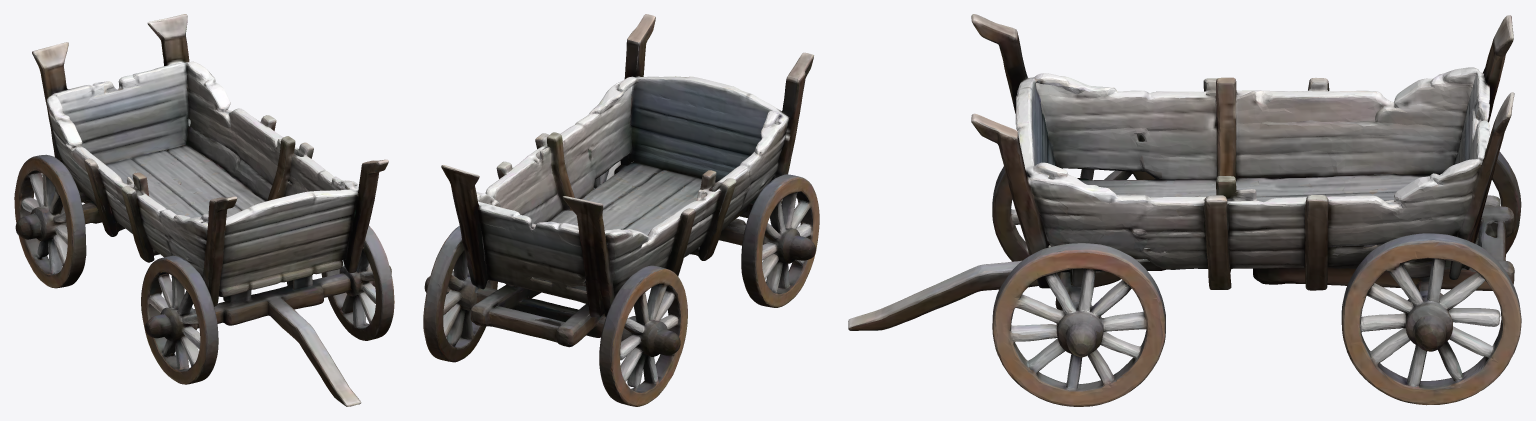
Rendered from combat_broken_cart_01.glb.
The picture shows the model from 3 angles, left to right: view 1: azimuth 30°, elevation 25°; view 2: azimuth 150°, elevation 25°; view 3: azimuth 270°, elevation 25°; orthographic projection. The views are drawn at different scales.
Visible parts, largest first — view 1: geometry_0; view 2: geometry_0; view 3: geometry_0.
Part boxes in pixels (<box>): geometry_0: <box>14,14,394,406</box>; geometry_0: <box>423,14,819,406</box>; geometry_0: <box>848,14,1521,406</box>.
Bounding box in the file's own units: 0.5617 × 0.4586 × 1.
1 material, 1 textured.
